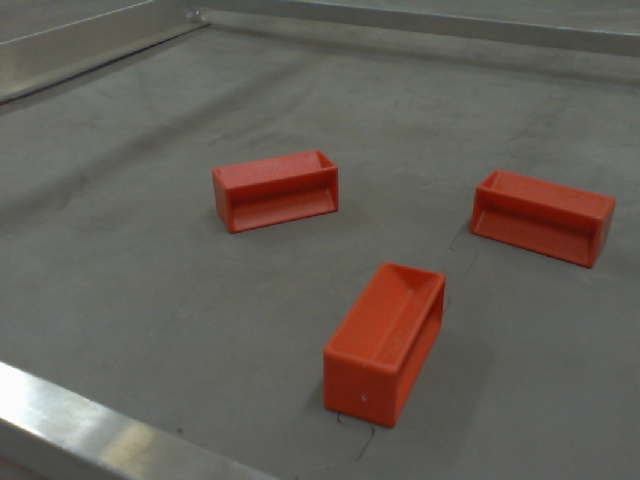RedSample: (321, 259, 446, 428), (468, 169, 615, 268), (209, 149, 340, 234)
